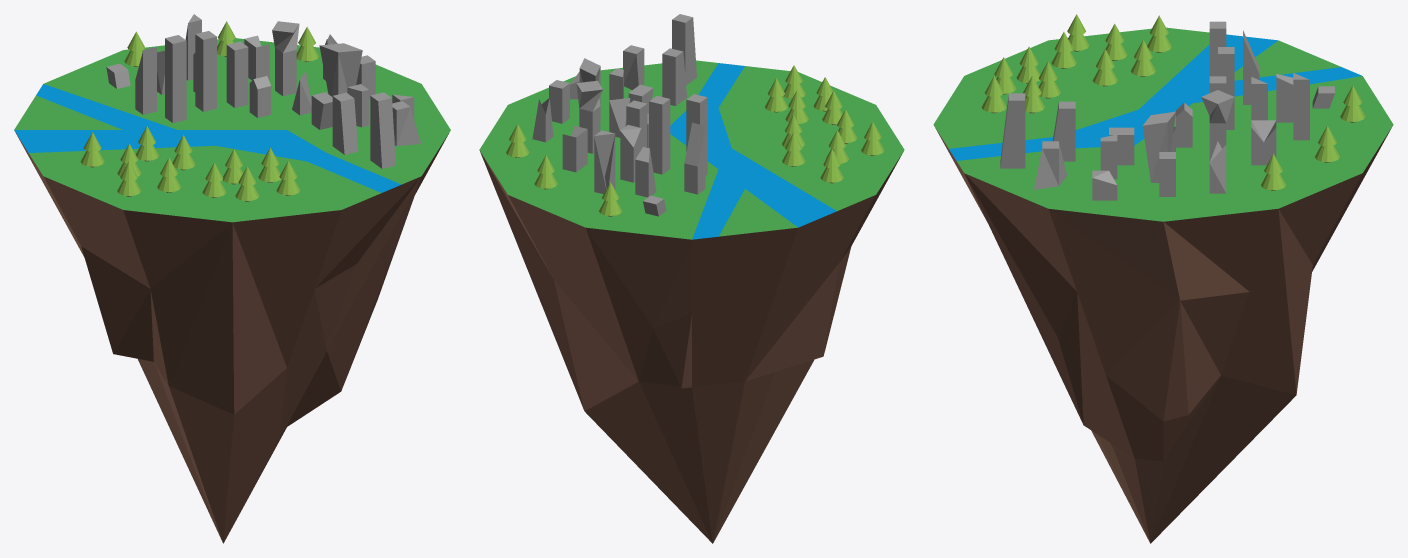
The model's file is Floating City.glb.
3 renders of one model, left to right at view 1: azimuth 30°, elevation 25°; view 2: azimuth 150°, elevation 25°; view 3: azimuth 270°, elevation 25°, orthographic. The views are drawn at different scales.
Visible parts, largest first — view 1: group1980036612; view 2: group1980036612; view 3: group1980036612, group56898970, group1604548741, group1750595242, group600758254, group1089817503, group232680038, group914371189, group162111949.
Boxes of the visible parts, x1,y1,x2,y2 form: group1980036612: (14, 14, 450, 543); group1980036612: (479, 14, 904, 543); group1980036612: (933, 21, 1393, 543); group56898970: (1092, 49, 1117, 86); group1604548741: (981, 76, 1006, 113); group1750595242: (1340, 85, 1365, 122); group600758254: (1051, 32, 1076, 68); group1089817503: (1131, 40, 1155, 76); group232680038: (1315, 125, 1339, 162); group914371189: (1261, 153, 1285, 190); group162111949: (1147, 15, 1171, 52).
Size of the model in its own units: 1.45 by 1.78 by 1.45.
